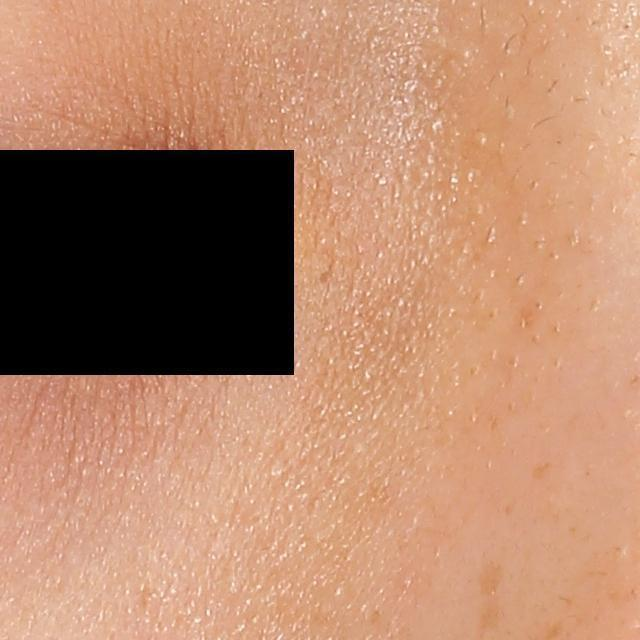melasma: (473, 554, 512, 603), (527, 458, 551, 482)
